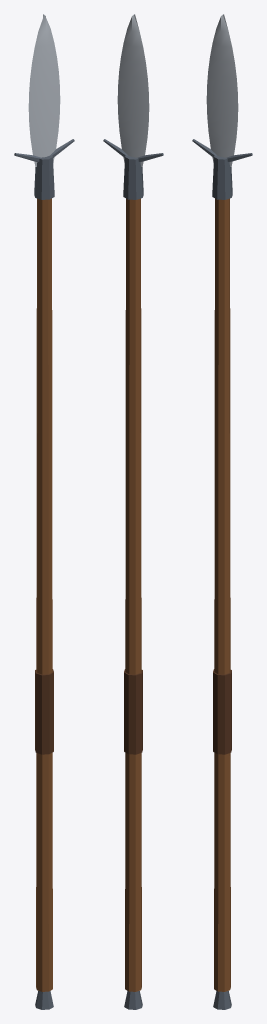
Rendered from Spear.fbx.
3 renders of one model, left to right at view 1: azimuth 30°, elevation 25°; view 2: azimuth 150°, elevation 25°; view 3: azimuth 330°, elevation 25°, orthographic.
Parts seen in each view (by area): view 1: Spear; view 2: Spear; view 3: Spear.
Boxes of the visible parts, bbox=[...] form: Spear: bbox=[14, 14, 74, 1009]; Spear: bbox=[103, 14, 163, 1009]; Spear: bbox=[192, 14, 252, 1009].
Bounding box in the file's own units: 0.1424 × 2.25 × 0.044.
